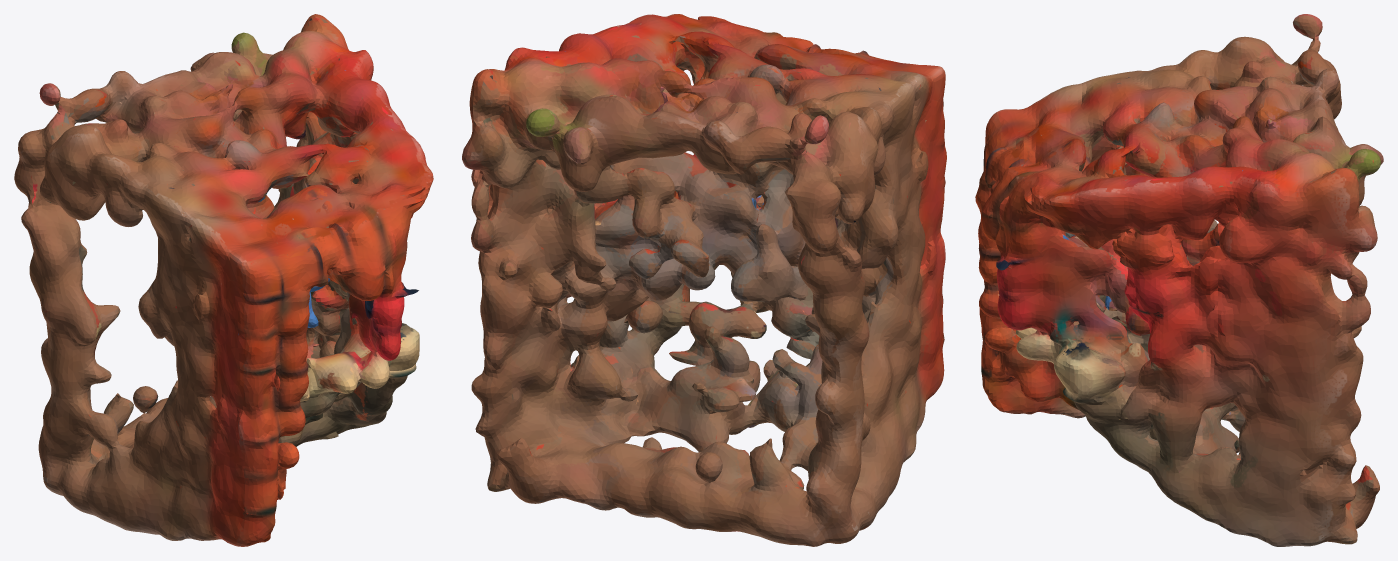
File: cuadrado.html.glb
The picture shows the model from 3 angles, left to right: view 1: azimuth 30°, elevation 25°; view 2: azimuth 150°, elevation 25°; view 3: azimuth 270°, elevation 25°; orthographic projection. The views are drawn at different scales.
Bounding box in the file's own units: 1.34 × 1.53 × 1.41.
Materials: 1 (1 with a texture image).
